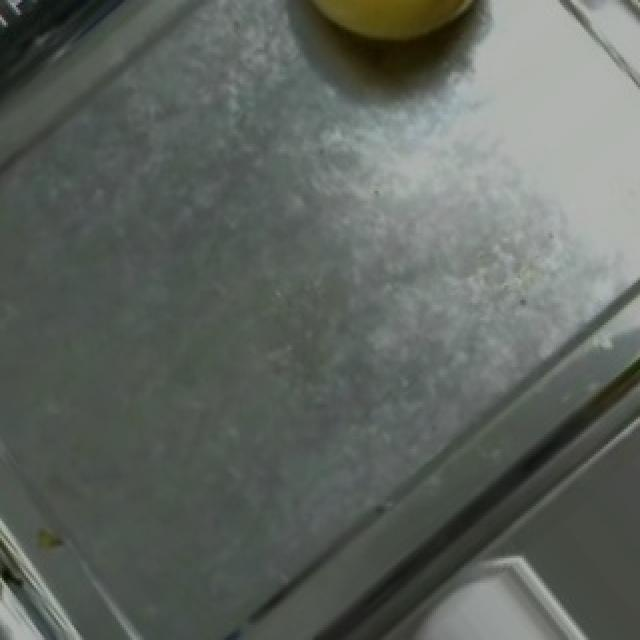fruit: (242, 0, 504, 97)
